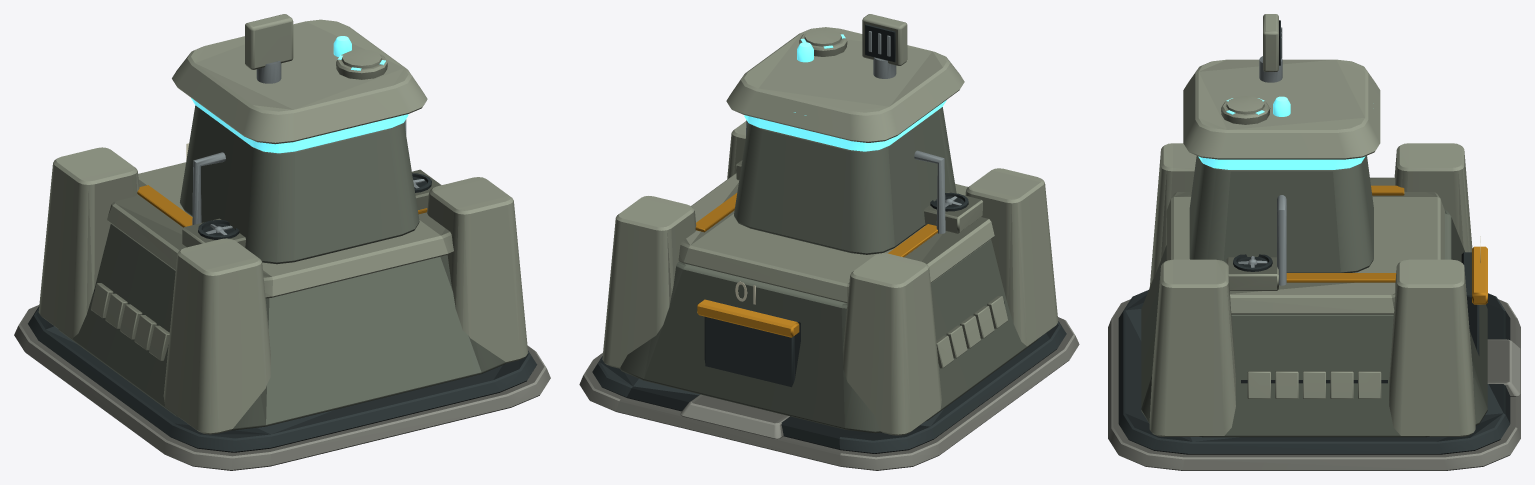
Rendered from CommandCenter.glb.
3 renders of one model, left to right at view 1: azimuth 30°, elevation 25°; view 2: azimuth 150°, elevation 25°; view 3: azimuth 270°, elevation 25°, orthographic. The views are drawn at different scales.
Visible parts, largest first — view 1: export_CommandCenter_Footing; view 2: export_CommandCenter_Footing; view 3: export_CommandCenter_Footing.
Boxes of the visible parts, x1,y1,x2,y2 form: export_CommandCenter_Footing: (14, 14, 550, 470); export_CommandCenter_Footing: (579, 14, 1079, 470); export_CommandCenter_Footing: (1108, 14, 1520, 470).
Size of the model in its own units: 5.69 by 5.24 by 5.69.
